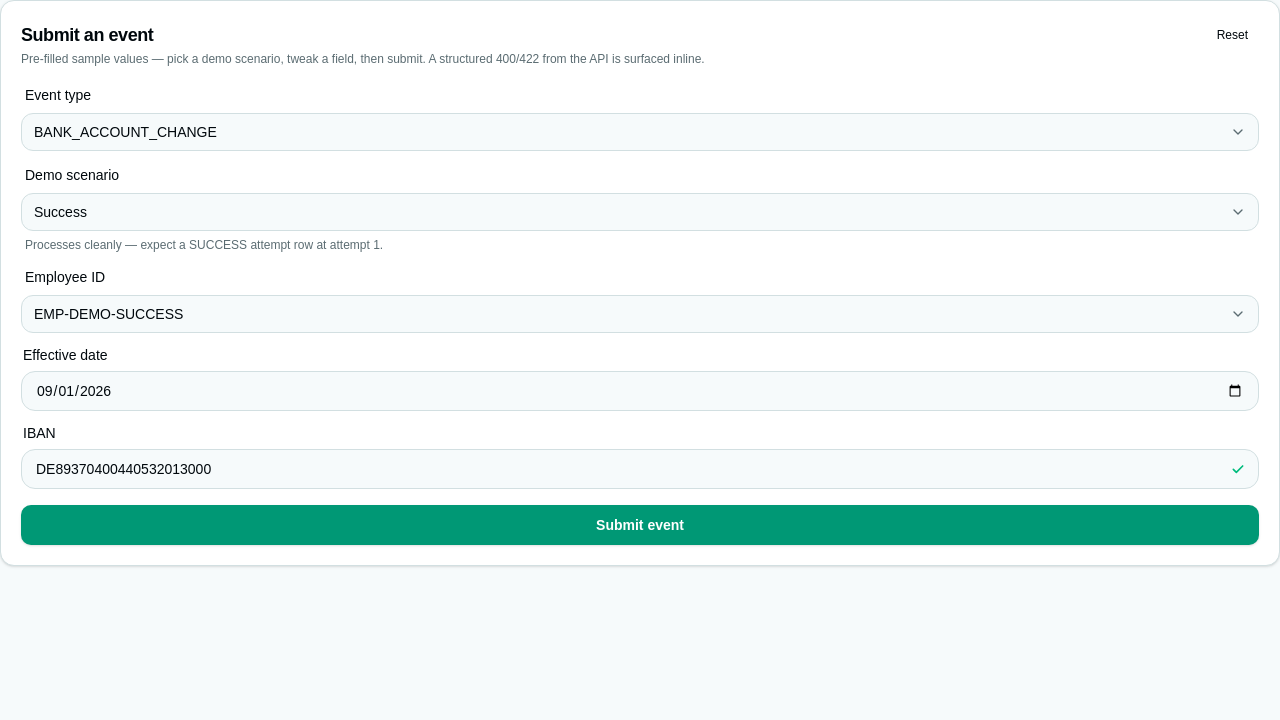
Test: SubmitForm › submits immediately with the pre-filled defaults (no typing)
The image size is (1280, 720).
Click the button "Submit event" at (640, 525), box [21,505,1259,545]
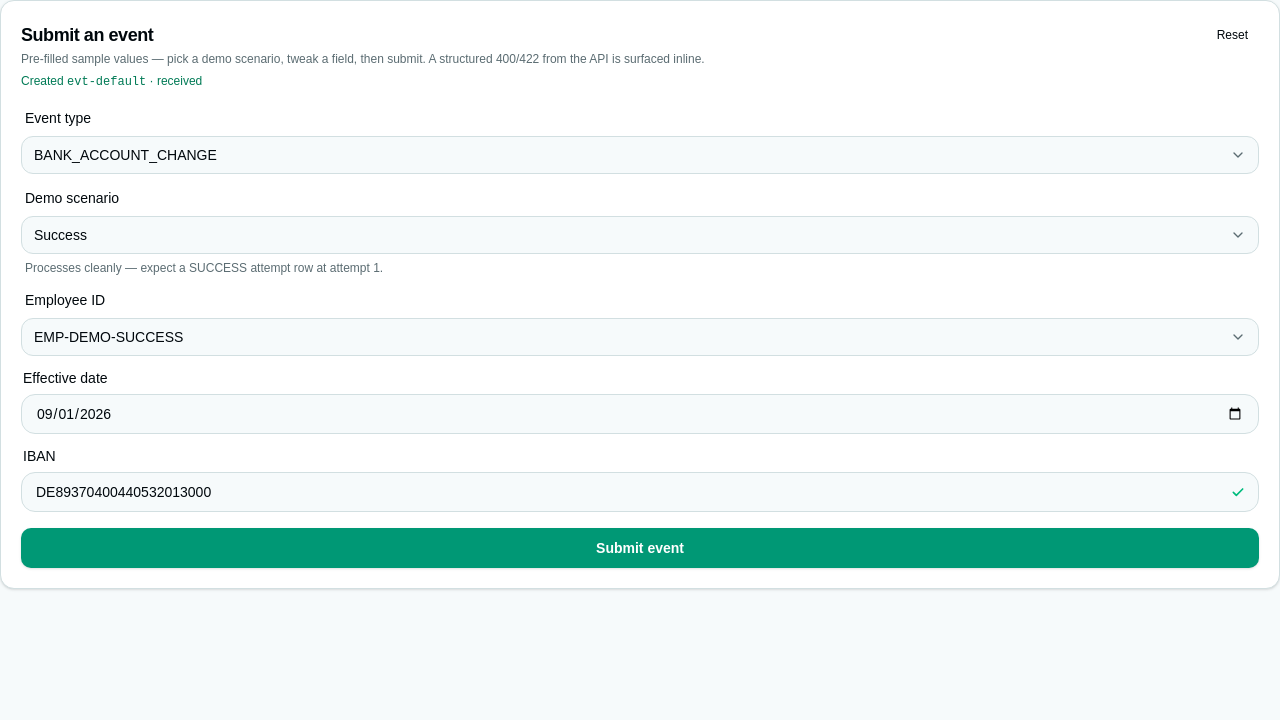
Expected: the text "evt-default" is shown, [67,75,146,89]
